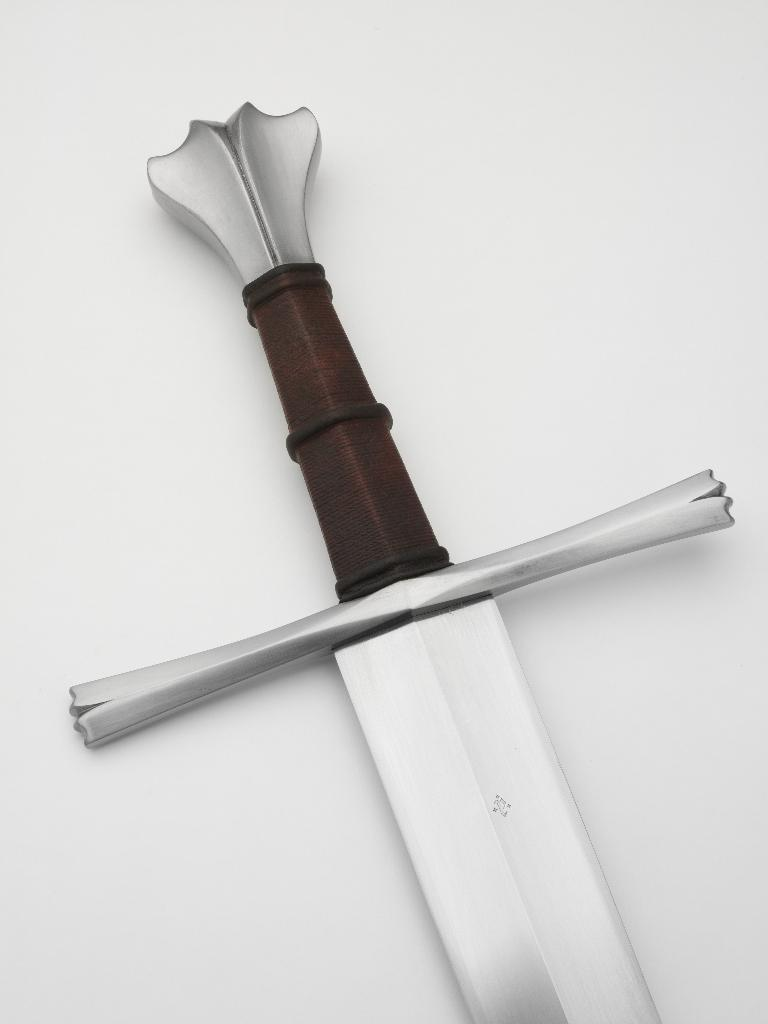Sword: (65, 96, 732, 1023)
